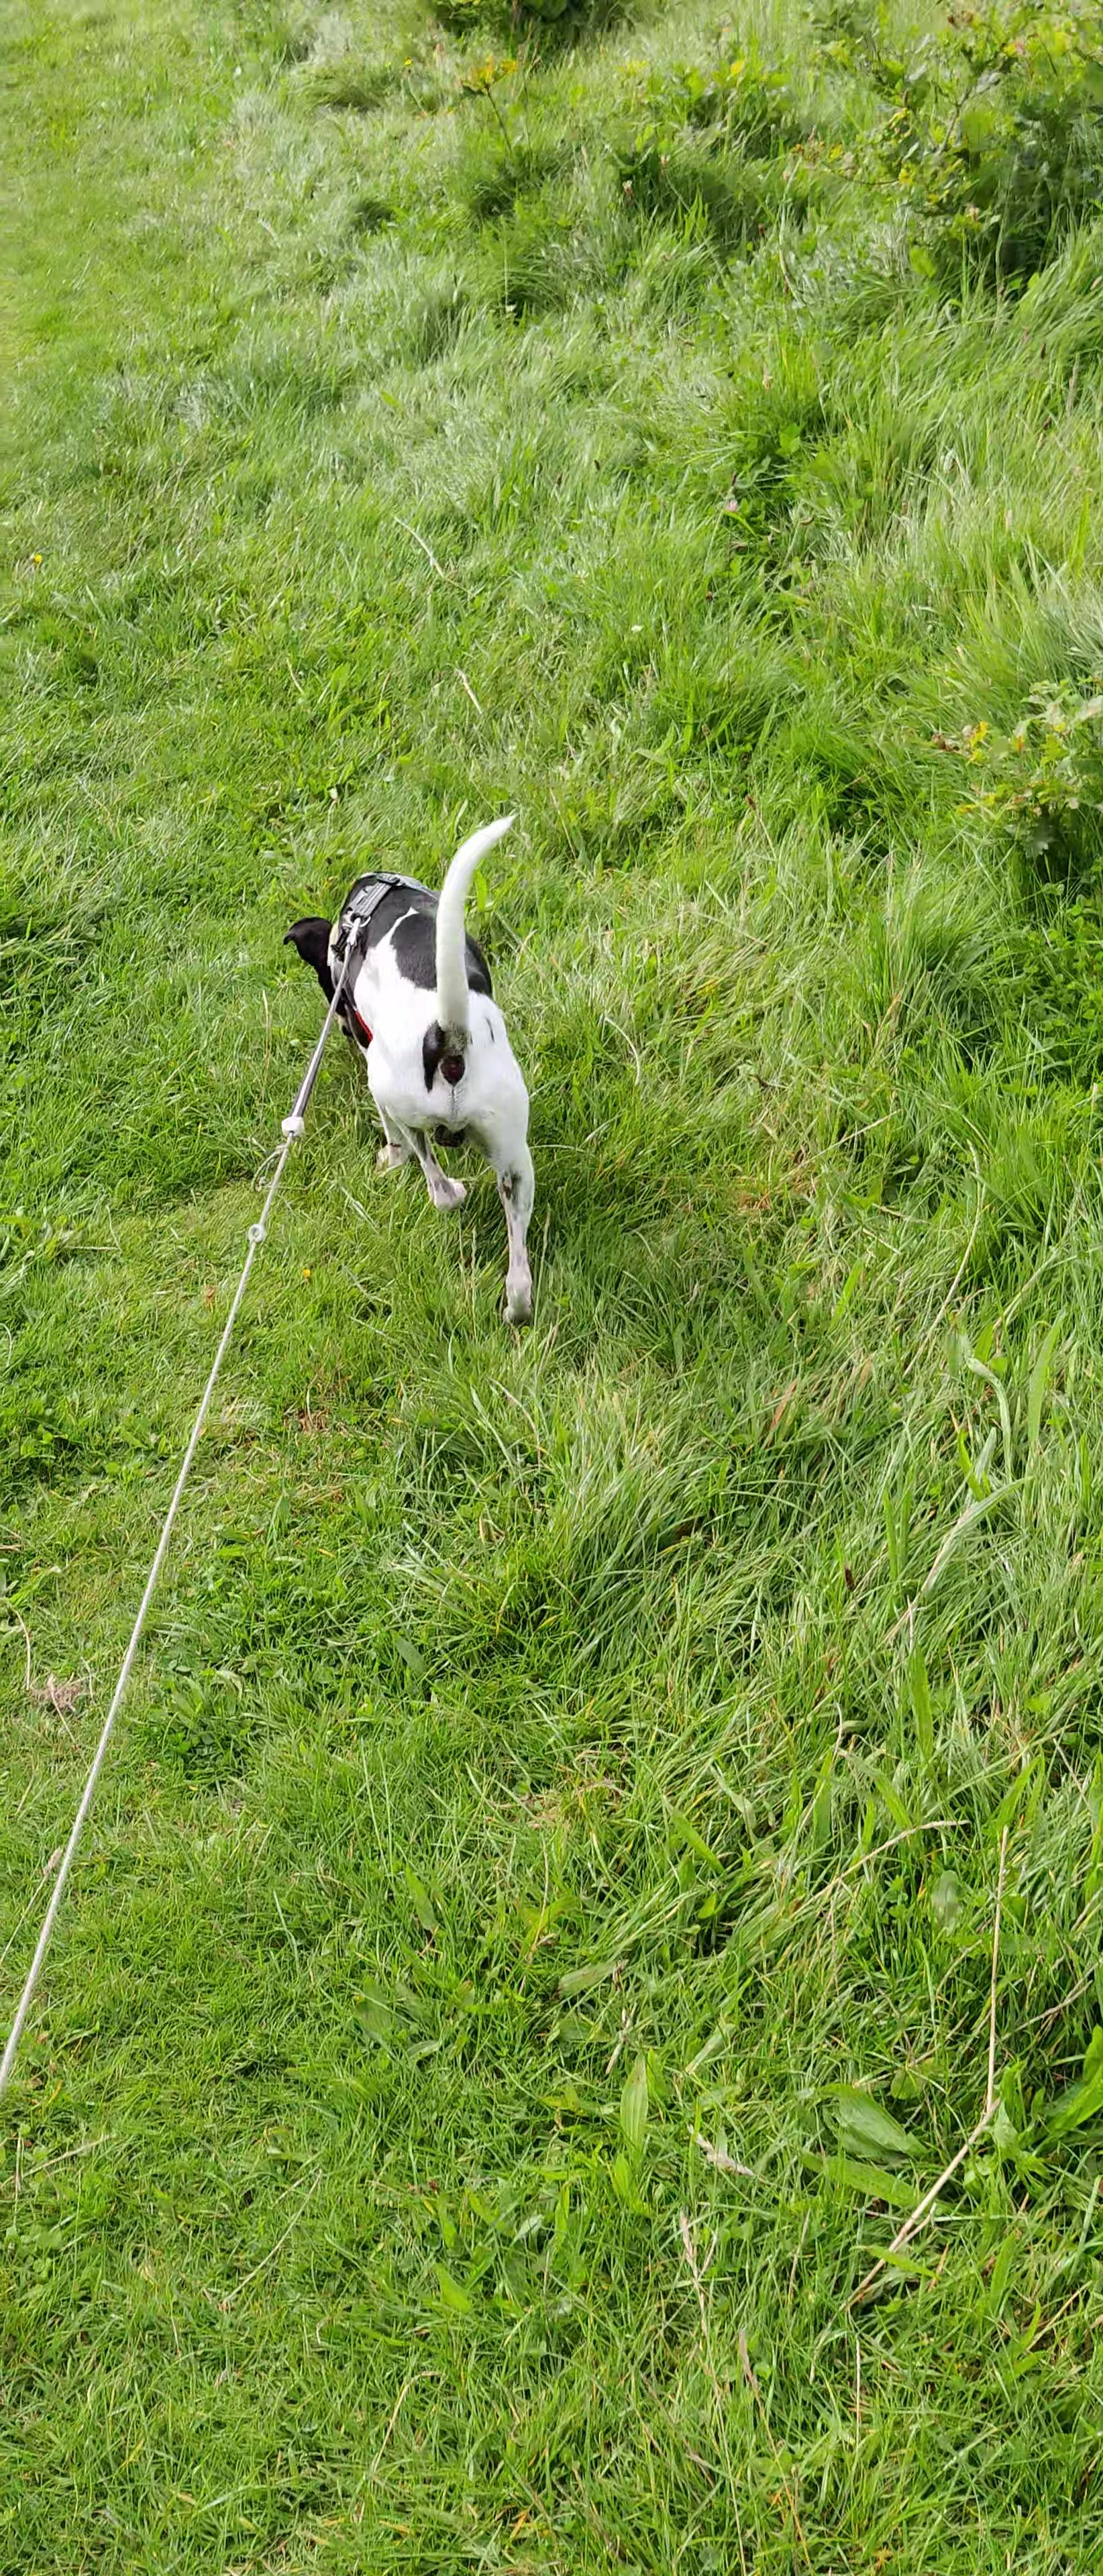Dog: (275, 802, 542, 1326)
